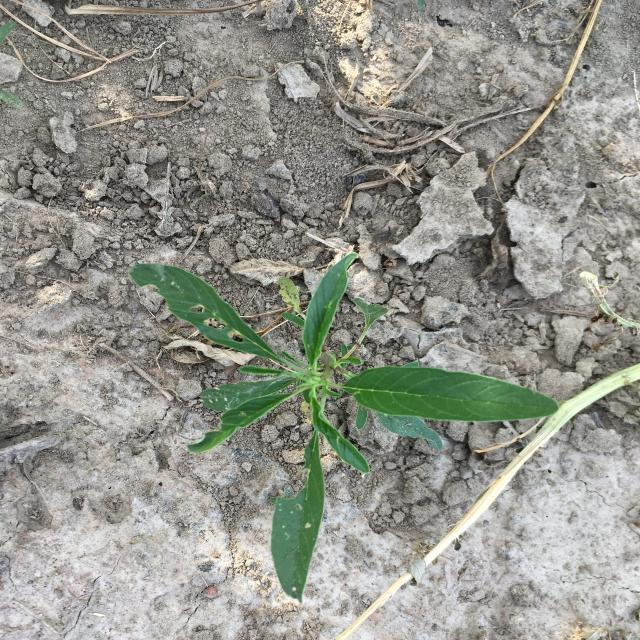Waterhemp: (129, 252, 559, 604)
